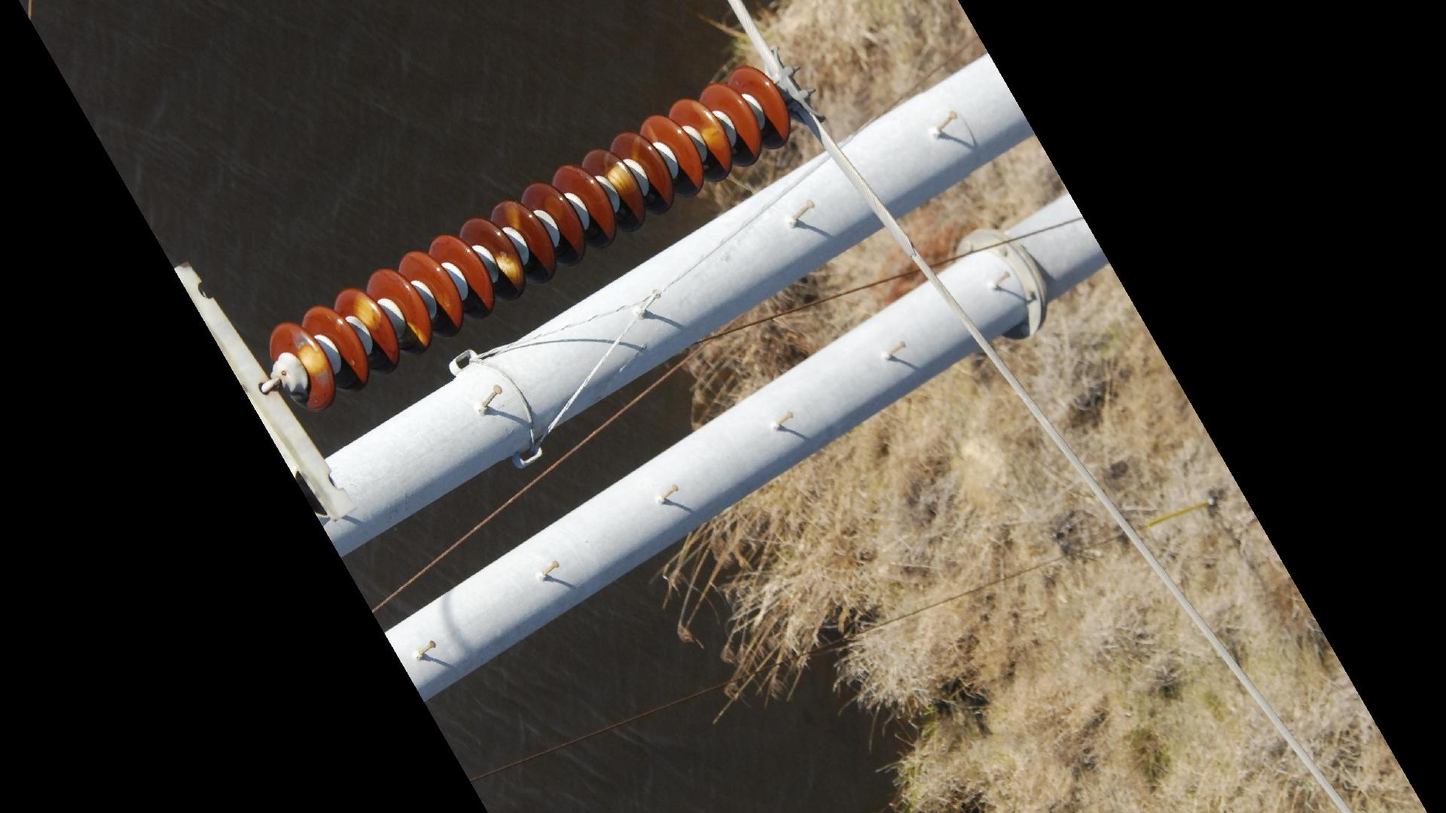insulator: (265, 60, 797, 416)
insulator_flashover: (294, 340, 331, 377), (352, 291, 383, 331), (606, 161, 639, 197), (403, 319, 431, 353), (493, 254, 523, 281), (700, 126, 728, 151), (502, 199, 522, 231)
